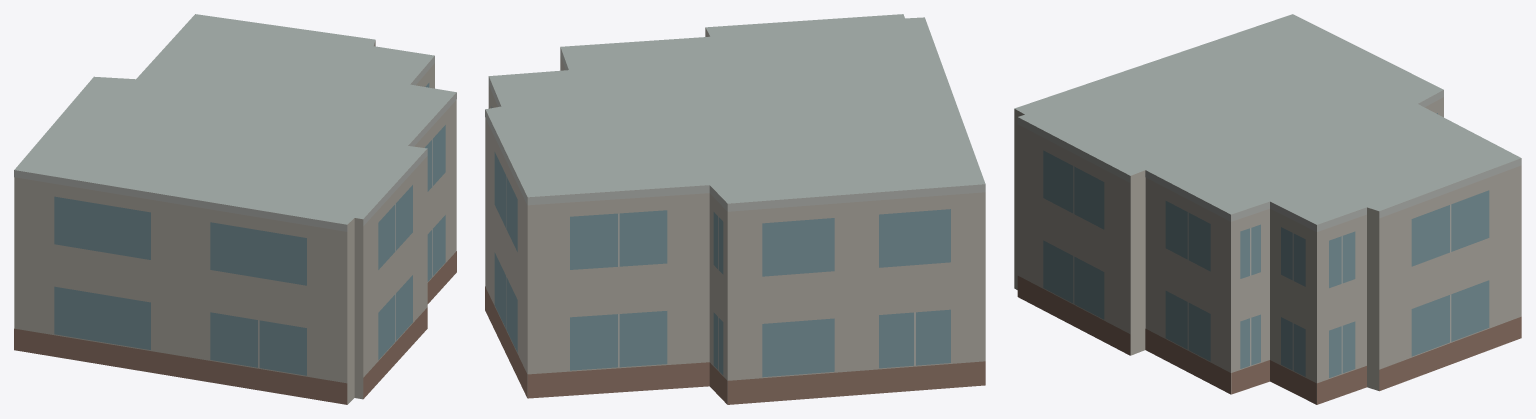
The model's file is survey-upis-32929309.glb.
The picture shows the model from 3 angles, left to right: view 1: azimuth 30°, elevation 25°; view 2: azimuth 150°, elevation 25°; view 3: azimuth 270°, elevation 25°; orthographic projection. The views are drawn at different scales.
Visible parts, largest first — view 1: survey-upis-32929309.tmp; view 2: survey-upis-32929309.tmp; view 3: survey-upis-32929309.tmp.
Boxes of the visible parts, x1,y1,x2,y2 form: survey-upis-32929309.tmp: [14, 14, 456, 404]; survey-upis-32929309.tmp: [485, 14, 985, 404]; survey-upis-32929309.tmp: [1014, 14, 1521, 404].
Size of the model in its own units: 15.35 by 6.1 by 15.6.
